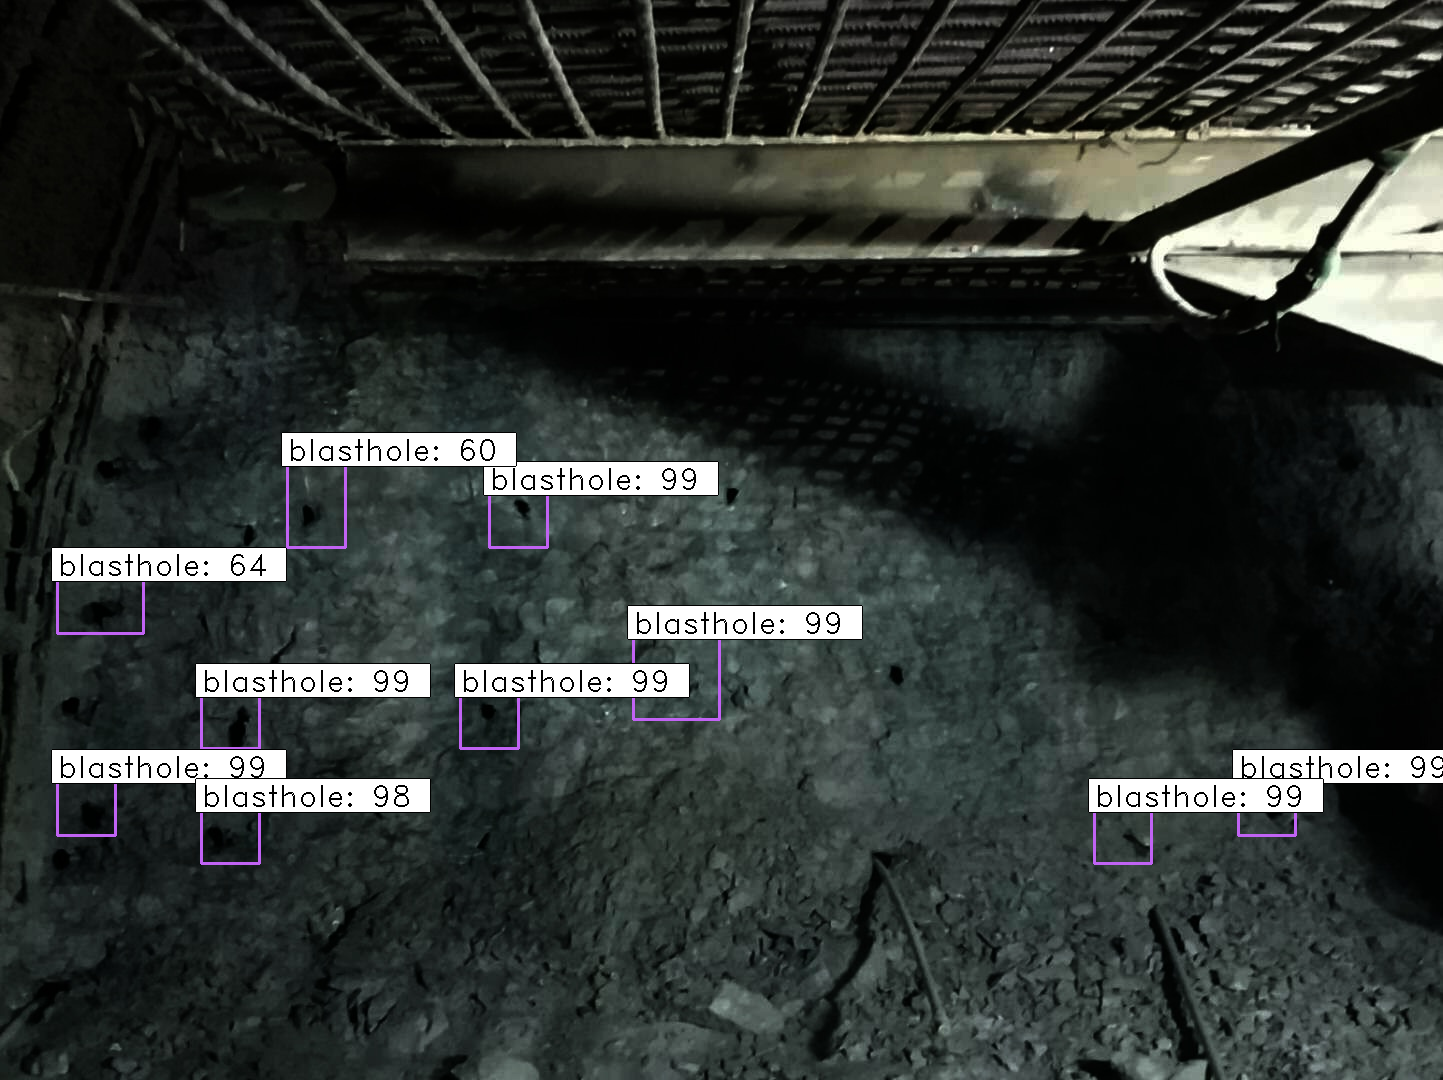blasthole: (1264, 616, 1356, 722), (642, 638, 714, 716), (132, 393, 192, 480), (691, 466, 770, 532), (211, 702, 279, 776), (86, 442, 149, 518), (1242, 770, 1299, 846), (67, 580, 130, 646), (458, 673, 518, 740), (1082, 602, 1147, 664), (490, 476, 552, 537), (874, 646, 933, 704), (1315, 431, 1378, 486), (45, 681, 102, 740), (70, 795, 127, 849), (284, 476, 328, 540)
